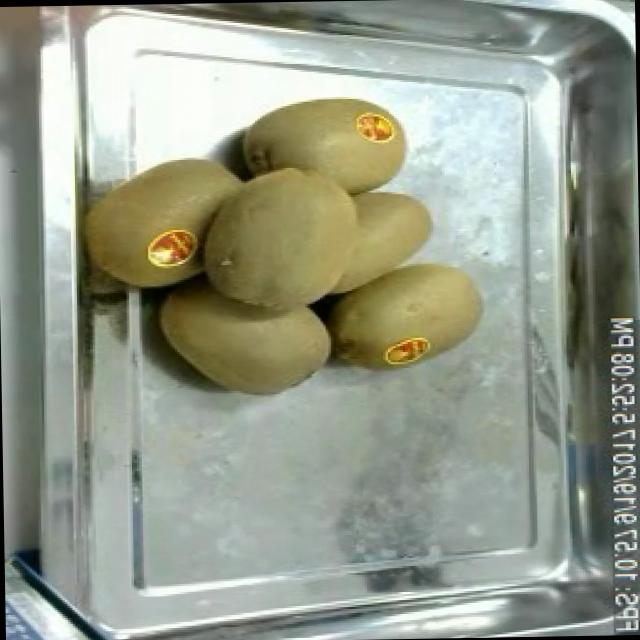Fruit: (186, 148, 442, 320), (81, 141, 252, 292), (148, 282, 342, 405), (324, 249, 490, 374)
